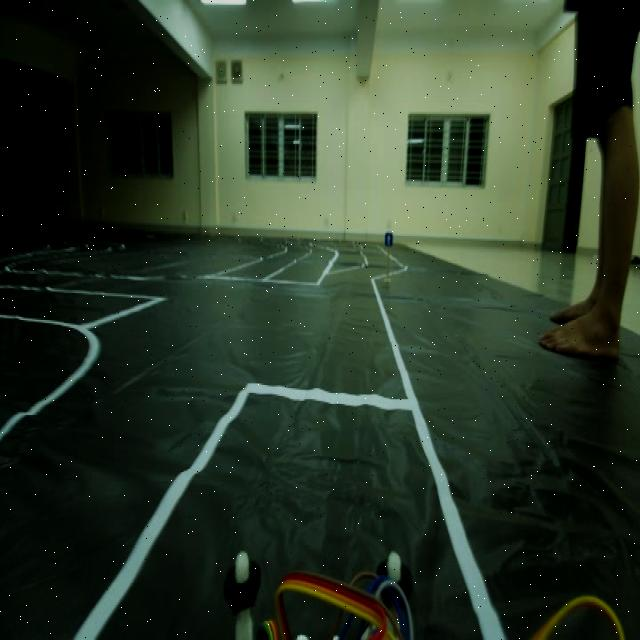onewayroad: (383, 224, 396, 254)
